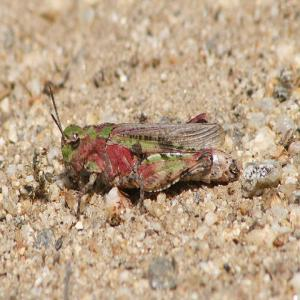locust: (46, 90, 242, 204)
